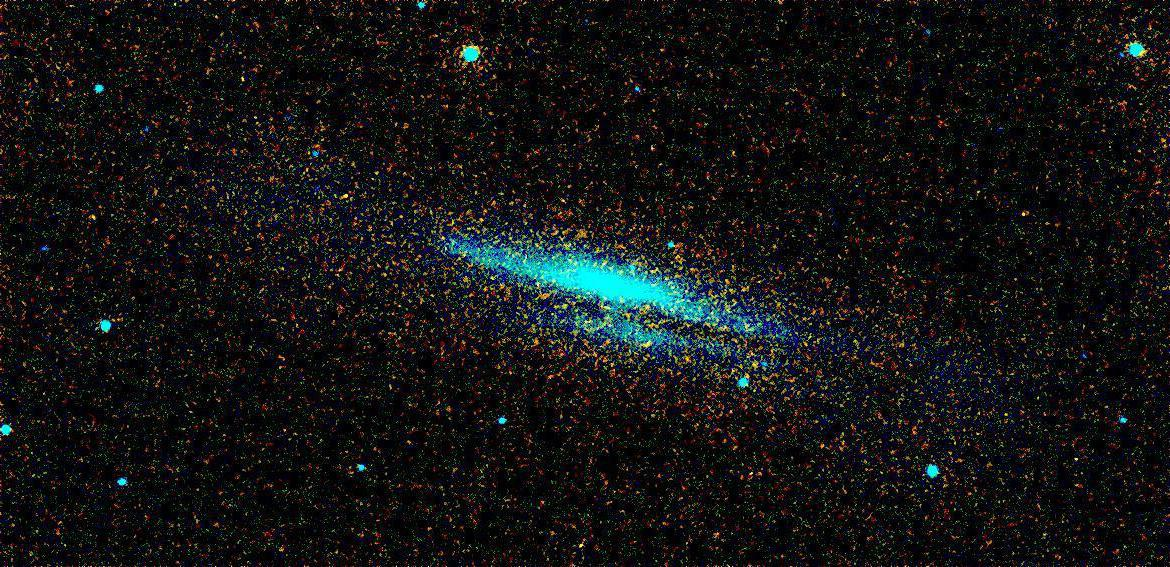star: (335, 181, 365, 211)
